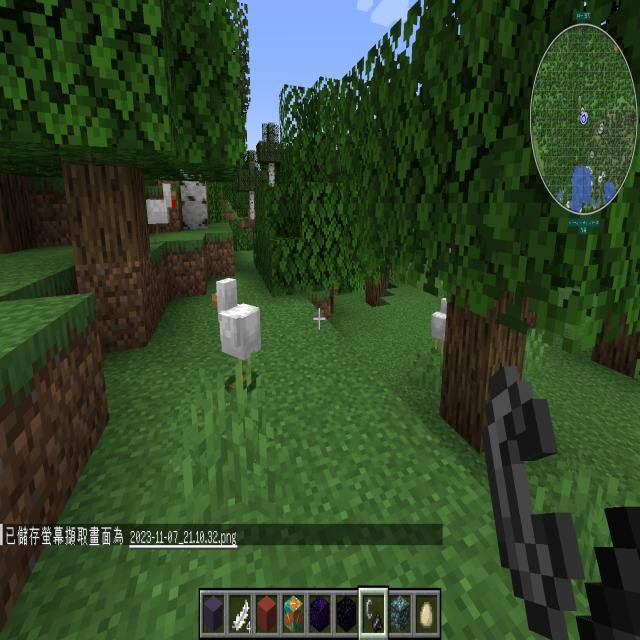chicken: (209, 275, 264, 395), (139, 181, 178, 246), (429, 288, 450, 356)
